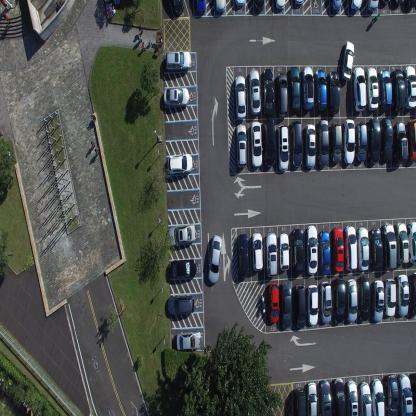car: (166, 222, 196, 248), (208, 233, 223, 284), (382, 222, 397, 270), (168, 257, 198, 280), (343, 225, 358, 271), (316, 119, 330, 168), (332, 277, 346, 324), (367, 117, 381, 164), (166, 152, 193, 176), (369, 227, 384, 270), (356, 226, 370, 272), (353, 66, 367, 112), (291, 226, 304, 275), (280, 280, 293, 329), (394, 222, 409, 264), (392, 68, 406, 113), (398, 373, 413, 415), (290, 120, 303, 168), (249, 68, 262, 116), (394, 120, 408, 164), (365, 67, 379, 111), (385, 372, 399, 416), (306, 224, 318, 275), (288, 66, 301, 113), (318, 230, 331, 276), (331, 226, 344, 272), (167, 294, 195, 315), (263, 119, 275, 168), (341, 39, 355, 81), (319, 279, 332, 324), (277, 124, 289, 172), (262, 68, 274, 116), (165, 50, 191, 72), (163, 86, 189, 108), (265, 232, 278, 276), (293, 284, 306, 328), (396, 273, 409, 317), (370, 378, 385, 416), (250, 121, 262, 168), (343, 118, 355, 165), (346, 277, 358, 323), (234, 74, 246, 120), (276, 71, 288, 117), (404, 64, 416, 110), (306, 284, 319, 326), (314, 69, 327, 111), (237, 233, 249, 278), (235, 123, 247, 168), (381, 116, 393, 161), (328, 69, 340, 114), (355, 121, 368, 162), (268, 280, 280, 324), (359, 274, 370, 322), (302, 66, 314, 110), (379, 69, 392, 109), (304, 124, 315, 170), (372, 280, 384, 322), (175, 331, 201, 350), (251, 231, 263, 272), (318, 380, 332, 415), (333, 378, 346, 415), (384, 278, 396, 317), (330, 122, 341, 163), (406, 119, 416, 164), (359, 381, 372, 415), (346, 380, 358, 416), (279, 233, 290, 272), (306, 380, 318, 415), (293, 386, 306, 416), (408, 220, 415, 266), (410, 272, 415, 317), (411, 372, 416, 415), (171, 0, 184, 16), (214, 0, 226, 14), (365, 0, 379, 12), (195, 0, 206, 15), (349, 0, 362, 12), (253, 0, 264, 12), (330, 0, 341, 12), (234, 0, 246, 10), (275, 0, 285, 11), (405, 0, 416, 10), (393, 0, 405, 7), (294, 0, 304, 7), (380, 0, 390, 6)
